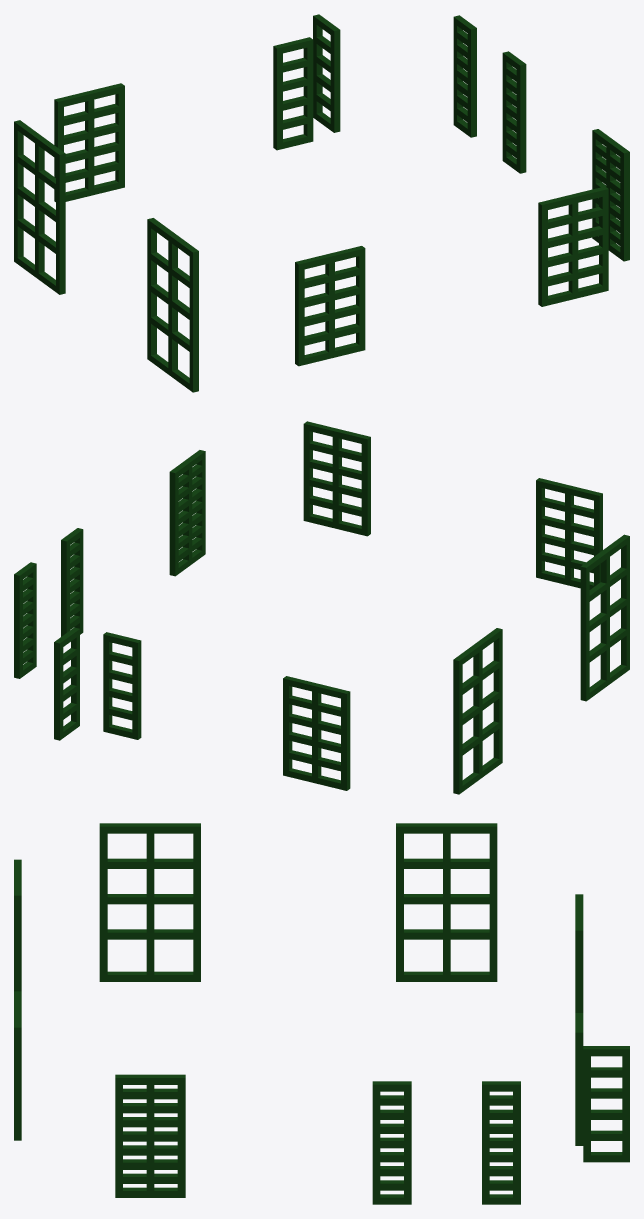
The model's file is brickhouse-3.obj.
The picture shows the model from 3 angles, top to bottom: view 1: azimuth 30°, elevation 25°; view 2: azimuth 150°, elevation 25°; view 3: azimuth 270°, elevation 25°; orthographic projection. The views are drawn at different scales.
Bounding box in the file's own units: 7.5 × 2.2 × 7.9.
1 material, 1 textured.
